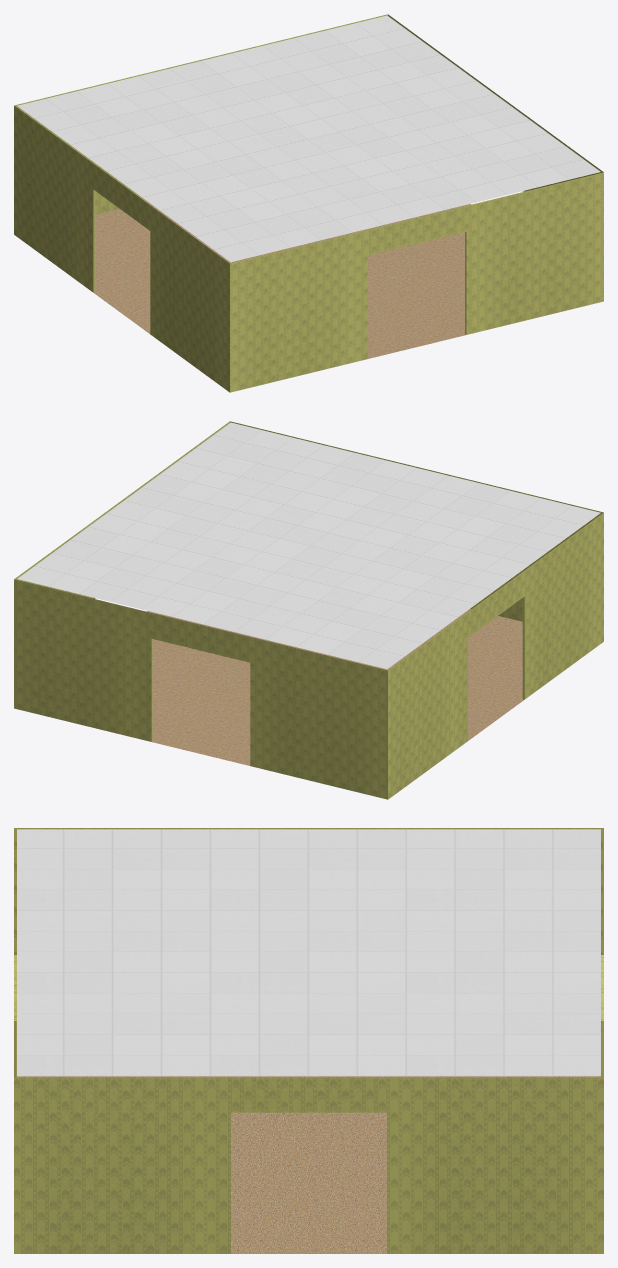
Rendered from baseRoom.glb.
The picture shows the model from 3 angles, top to bottom: view 1: azimuth 30°, elevation 25°; view 2: azimuth 150°, elevation 25°; view 3: azimuth 270°, elevation 25°; orthographic projection. The views are drawn at different scales.
Visible parts, largest first — view 1: baseRoom; view 2: baseRoom; view 3: baseRoom.
Boxes of the visible parts, x1,y1,x2,y2 form: baseRoom: (14, 14, 603, 392); baseRoom: (14, 421, 603, 799); baseRoom: (14, 828, 603, 1253).
Size of what is drawn, in the model's own units: 15.15 by 5 by 15.15.
Materials: 3 (3 with a texture image).
